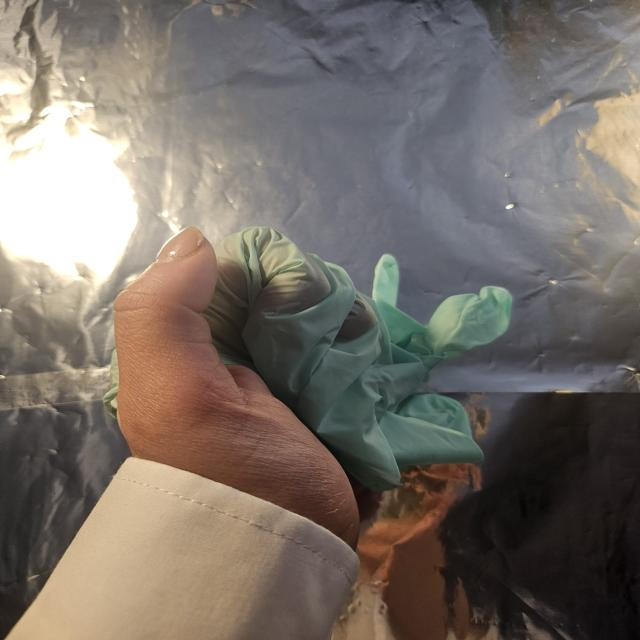glove_partial: (97, 223, 514, 541)
